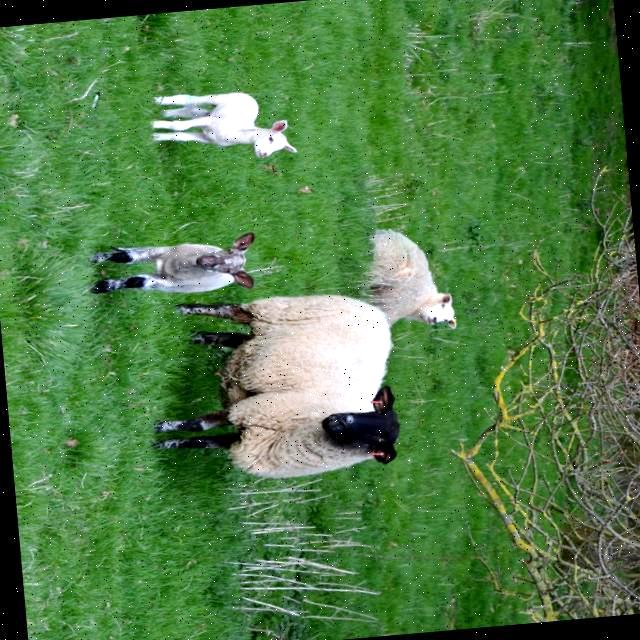sheep: (155, 293, 399, 477), (90, 232, 252, 293), (149, 91, 293, 157), (368, 229, 455, 328)
